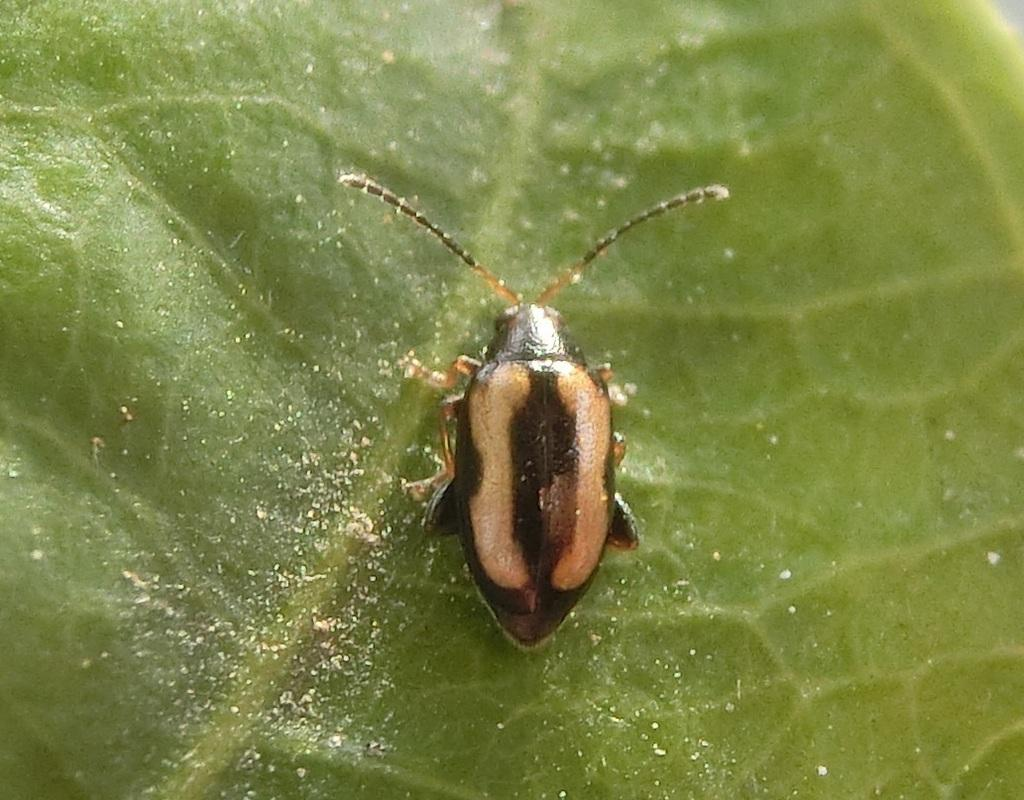flea_beetle: (285, 104, 801, 728)
